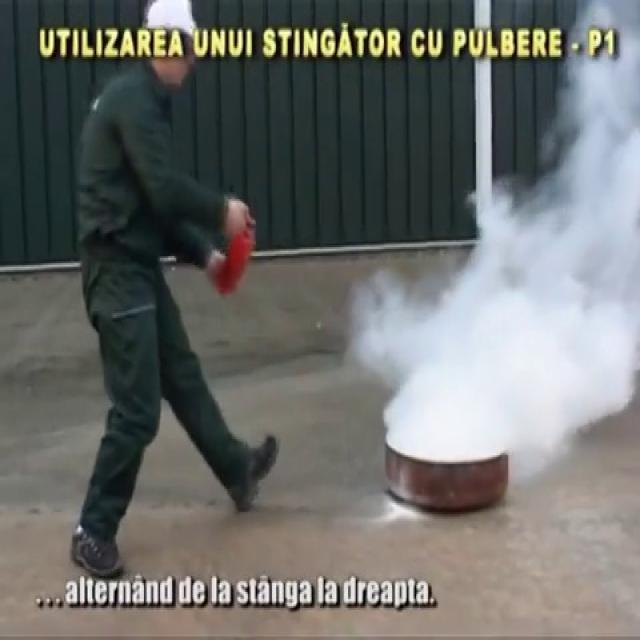Smoke: (378, 0, 640, 480)
